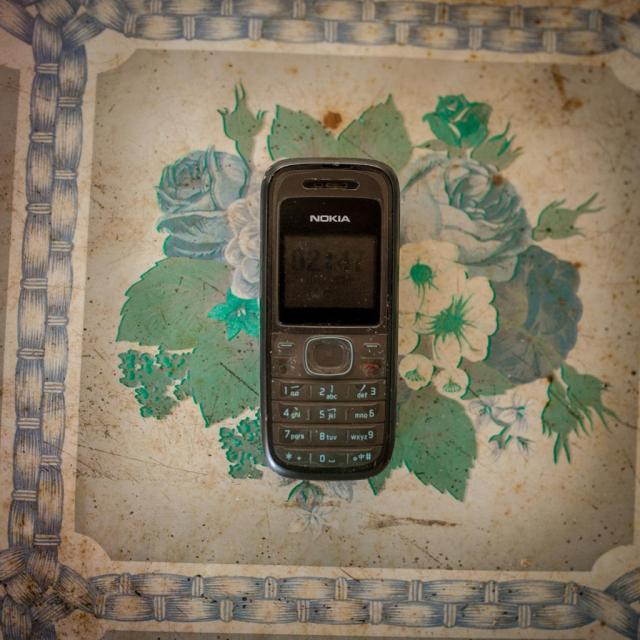Phone: (260, 154, 402, 480)
